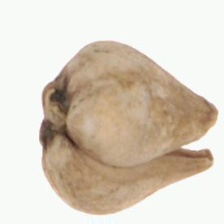L1: (168, 99, 218, 173), (37, 72, 70, 148)
L2: (38, 41, 218, 215)
